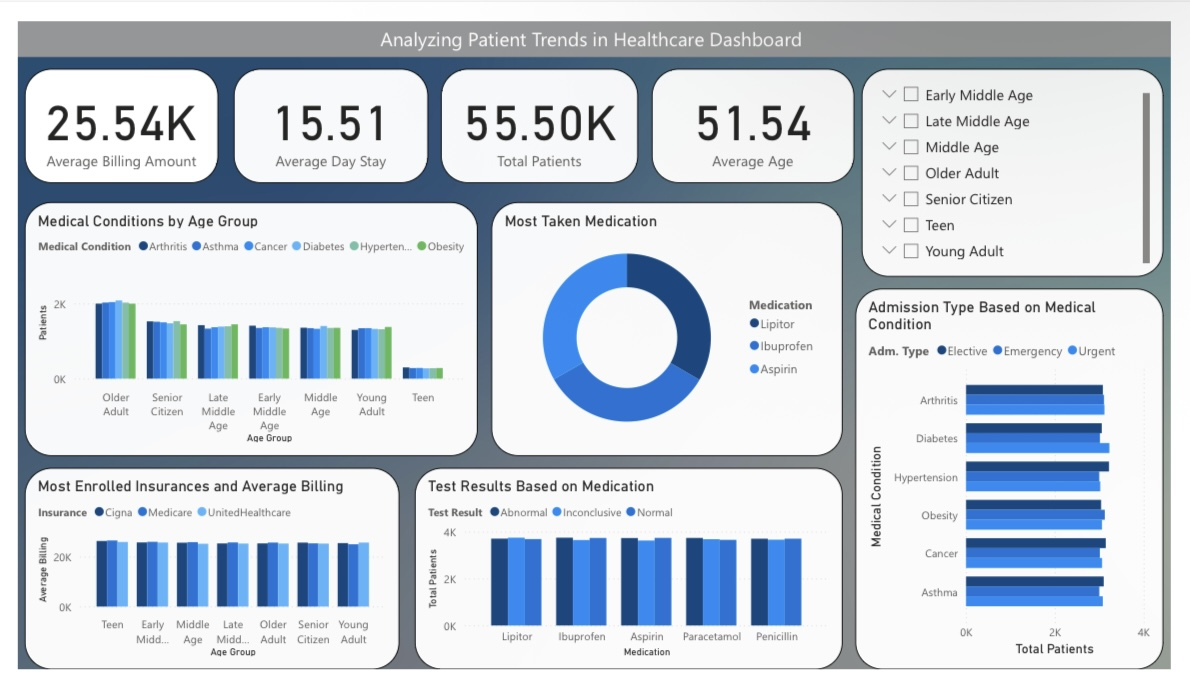

This screenshot's page, from the dashboard's own definition file:
{"tool":"powerbi","page":{"name":"Page 1","canvas":[1280,720],"ordinal":0},"visuals":[{"type":"card","fields":{"Values":["CountNonNull(healthcare_data_set.name)"]},"box":[469.6,53,219.6,126.9],"z":0},{"type":"card","fields":{"Values":["Avg(healthcare_data_set.billing_amount)"]},"box":[7.6,53,215.9,126.9],"z":1000},{"type":"card","fields":{"Values":["healthcare_data_set.Average Stay Length"]},"box":[240.5,53,215.9,126.9],"z":2000},{"type":"card","fields":{"Values":["healthcare_data_set.Average Age"]},"box":[703.8,52.5,225,127.5],"z":3000},{"type":"textbox","box":[0,0,1280,39.8],"z":4000},{"type":"clusteredColumnChart","title":"Medical Conditions by Age Group","fields":{"Category":["healthcare_data_set.age_group"],"Y":["CountNonNull(healthcare_data_set.name)"],"Series":["healthcare_data_set.medical_condition"]},"box":[7.6,200.7,503.7,282.1],"z":5000},{"type":"slicer","fields":{"Values":["healthcare_data_set.age_group","healthcare_data_set.gender","healthcare_data_set.medical_condition","healthcare_data_set.medication","healthcare_data_set.test_result","healthcare_data_set.admission_type","healthcare_data_set.billing_amount"]},"box":[937.3,53,335.1,231],"z":6000},{"type":"clusteredColumnChart","title":"Test Results Based on Medication","fields":{"Category":["healthcare_data_set.medication"],"Series":["healthcare_data_set.test_result"],"Y":["healthcare_data_set.Total Patients"]},"box":[441.2,496.1,475.3,223.4],"z":7000},{"type":"donutChart","title":"Most Taken Medication","fields":{"Y":["healthcare_data_set.Total Patients"],"Category":["healthcare_data_set.medication"]},"box":[526.4,200.7,390.1,282.1],"z":8000},{"type":"clusteredBarChart","title":"Admission Type Based on Medical Condition","fields":{"Series":["healthcare_data_set.admission_type"],"Y":["healthcare_data_set.Total Patients"],"Category":["healthcare_data_set.medical_condition"]},"box":[929.7,297.3,342.7,422.2],"z":9000},{"type":"gauge","title":"Average Abnormal Rate % vs. Target Abnormal Rate %","fields":{"Y":["healthcare_data_set.Abnormal Rate %"],"TargetValue":["healthcare_data_set.Target Abnormal Rate %"]},"box":[13.3,496.1,418.5,223.4],"z":10000}]}

Visuals, with their boxes in screenshot pixels (x1, y1, x2, y2), scaled from the page's 1280x720 canvas onto the 1190x686 screenshot:
card - CountNonNull(healthcare_data_set.name): (left=437, top=50, right=641, bottom=171)
card - Avg(healthcare_data_set.billing_amount): (left=7, top=50, right=208, bottom=171)
card - healthcare_data_set.Average Stay Length: (left=224, top=50, right=424, bottom=171)
card - healthcare_data_set.Average Age: (left=654, top=50, right=863, bottom=172)
textbox: (left=0, top=0, right=1189, bottom=38)
"Medical Conditions by Age Group" clusteredColumnChart: (left=7, top=191, right=475, bottom=460)
slicer - healthcare_data_set.age_group x healthcare_data_set.gender: (left=871, top=50, right=1183, bottom=271)
"Test Results Based on Medication" clusteredColumnChart: (left=410, top=473, right=852, bottom=685)
"Most Taken Medication" donutChart: (left=489, top=191, right=852, bottom=460)
"Admission Type Based on Medical Condition" clusteredBarChart: (left=864, top=283, right=1183, bottom=685)
"Average Abnormal Rate % vs. Target Abnormal Rate %" gauge: (left=12, top=473, right=401, bottom=685)
